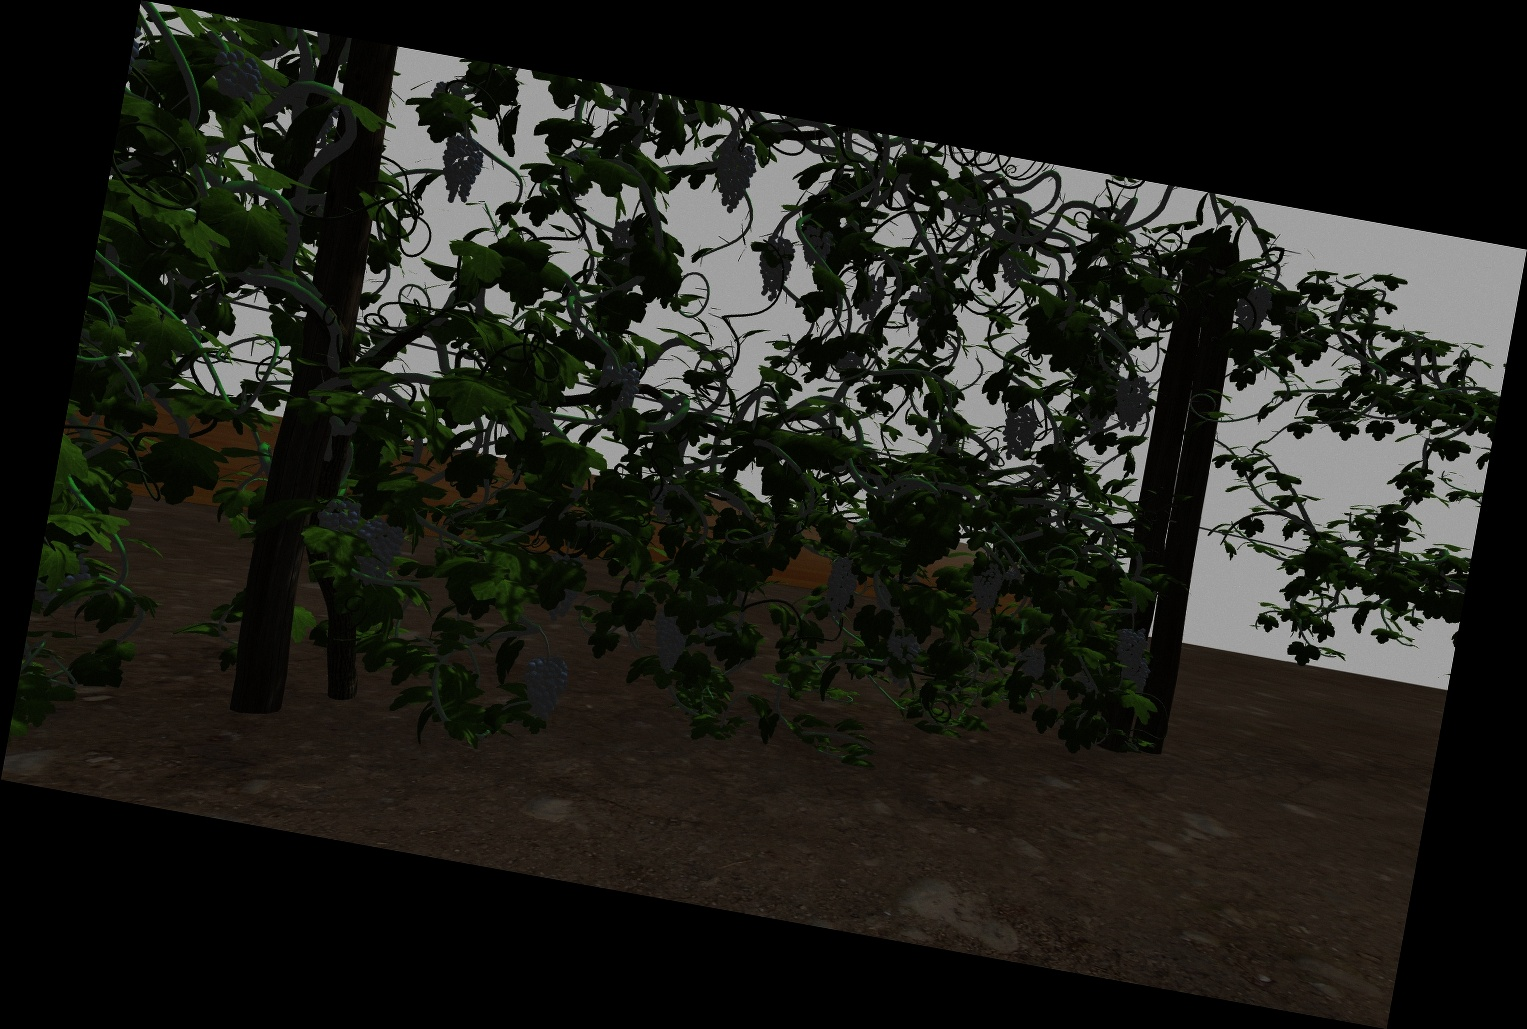grape: (712, 140, 753, 212), (440, 139, 483, 206), (521, 655, 566, 719), (650, 608, 691, 674), (755, 235, 794, 303), (596, 362, 640, 420), (357, 520, 404, 573), (212, 51, 262, 98), (1113, 376, 1152, 431), (1234, 283, 1274, 334), (1001, 403, 1037, 461), (824, 556, 858, 616), (968, 562, 1003, 613), (798, 225, 832, 269), (317, 498, 362, 532), (855, 274, 886, 322), (999, 245, 1031, 288), (1115, 627, 1145, 670), (887, 633, 922, 665), (1017, 647, 1047, 678), (1121, 663, 1150, 693)
